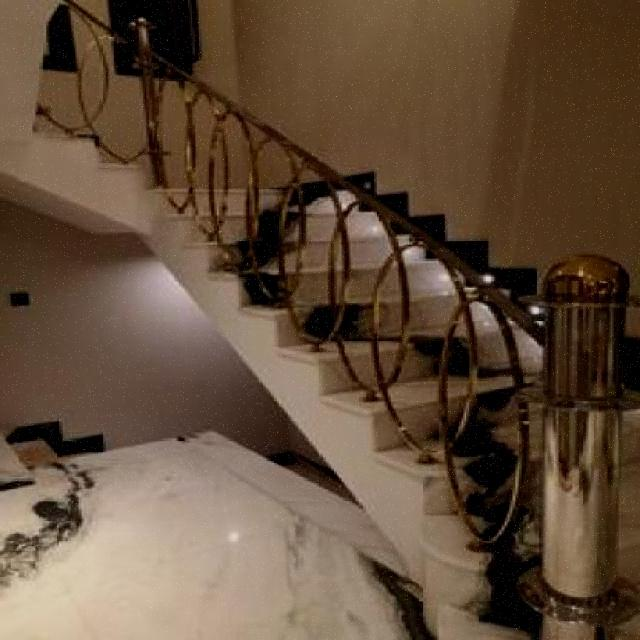stair: (134, 111, 634, 600)
